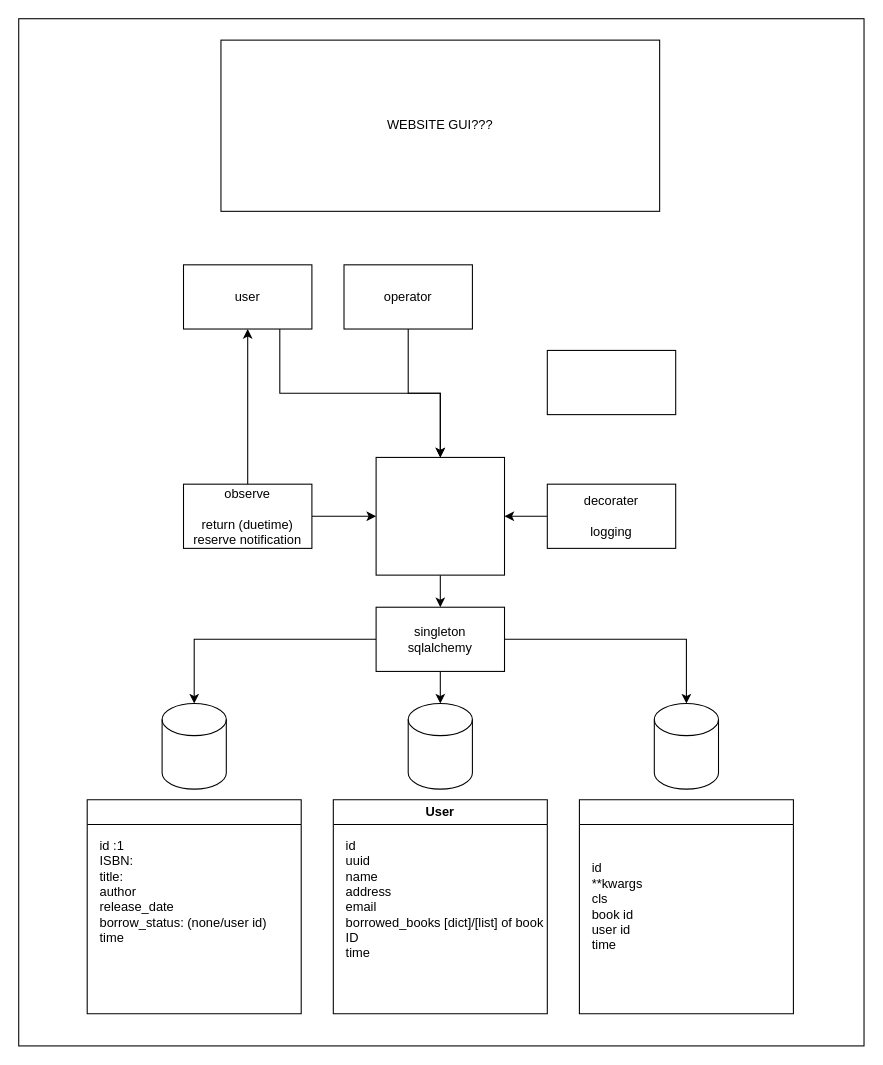
Image size: 883x1065. Some labels were removed from this diagram. Each missing label, with the box of its shape:
Books: (86, 799, 301, 1014)
database handler reserve borrow return lookup users lookup books: (375, 456, 505, 575)
loggingdb: (578, 799, 793, 1014)
tests: (546, 349, 676, 415)
